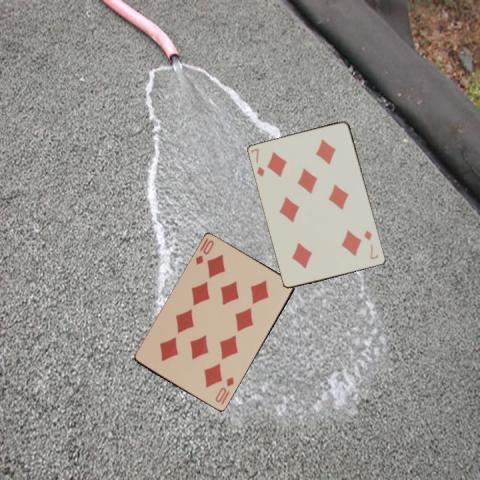10d: (193, 235, 215, 267), (212, 374, 235, 404)
7d: (361, 227, 380, 261), (248, 145, 266, 178)
